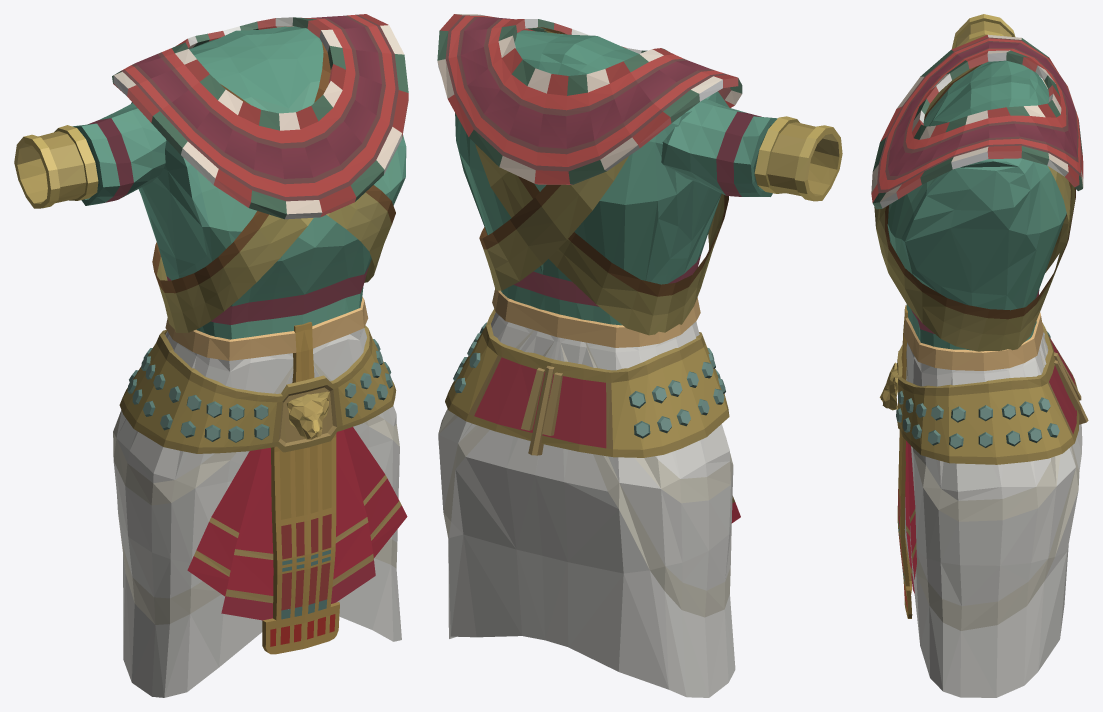
Rendered from ancientEgyptArmorDetailedFemale.glb.
3 views of the same model, side by side, from view 1: azimuth 30°, elevation 25°; view 2: azimuth 150°, elevation 25°; view 3: azimuth 270°, elevation 25° (orthographic). The views are drawn at different scales.
Parts seen in each view (by area): view 1: ancientEgyptArmorDetailed, ancientEgyptArmorDetailedNeck, ancientEgyptArmorDetailedUpperArm; view 2: ancientEgyptArmorDetailed, ancientEgyptArmorDetailedNeck, ancientEgyptArmorDetailedUpperArm; view 3: ancientEgyptArmorDetailed, ancientEgyptArmorDetailedNeck, ancientEgyptArmorDetailedUpperArm.
Part boxes in pixels (left/top/right/bottom): ancientEgyptArmorDetailed: left=113, top=26, right=407, bottom=697; ancientEgyptArmorDetailedNeck: left=112, top=14, right=408, bottom=332; ancientEgyptArmorDetailedUpperArm: left=14, top=103, right=166, bottom=208; ancientEgyptArmorDetailed: left=438, top=30, right=740, bottom=697; ancientEgyptArmorDetailedNeck: left=437, top=14, right=742, bottom=335; ancientEgyptArmorDetailedUpperArm: left=661, top=98, right=842, bottom=201; ancientEgyptArmorDetailed: left=879, top=60, right=1088, bottom=697; ancientEgyptArmorDetailedNeck: left=871, top=34, right=1083, bottom=351; ancientEgyptArmorDetailedUpperArm: left=952, top=14, right=1015, bottom=48.
Size of the model in its own units: 0.635 by 1.04 by 0.3622.
